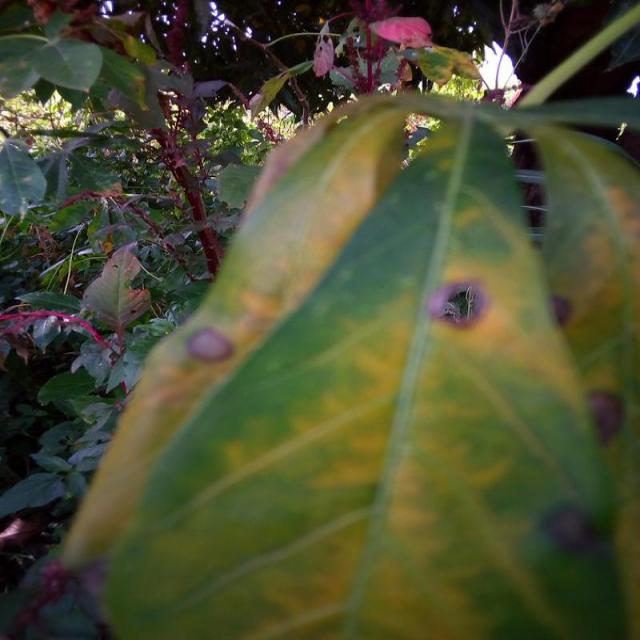cassava leaf: (59, 92, 630, 638)
